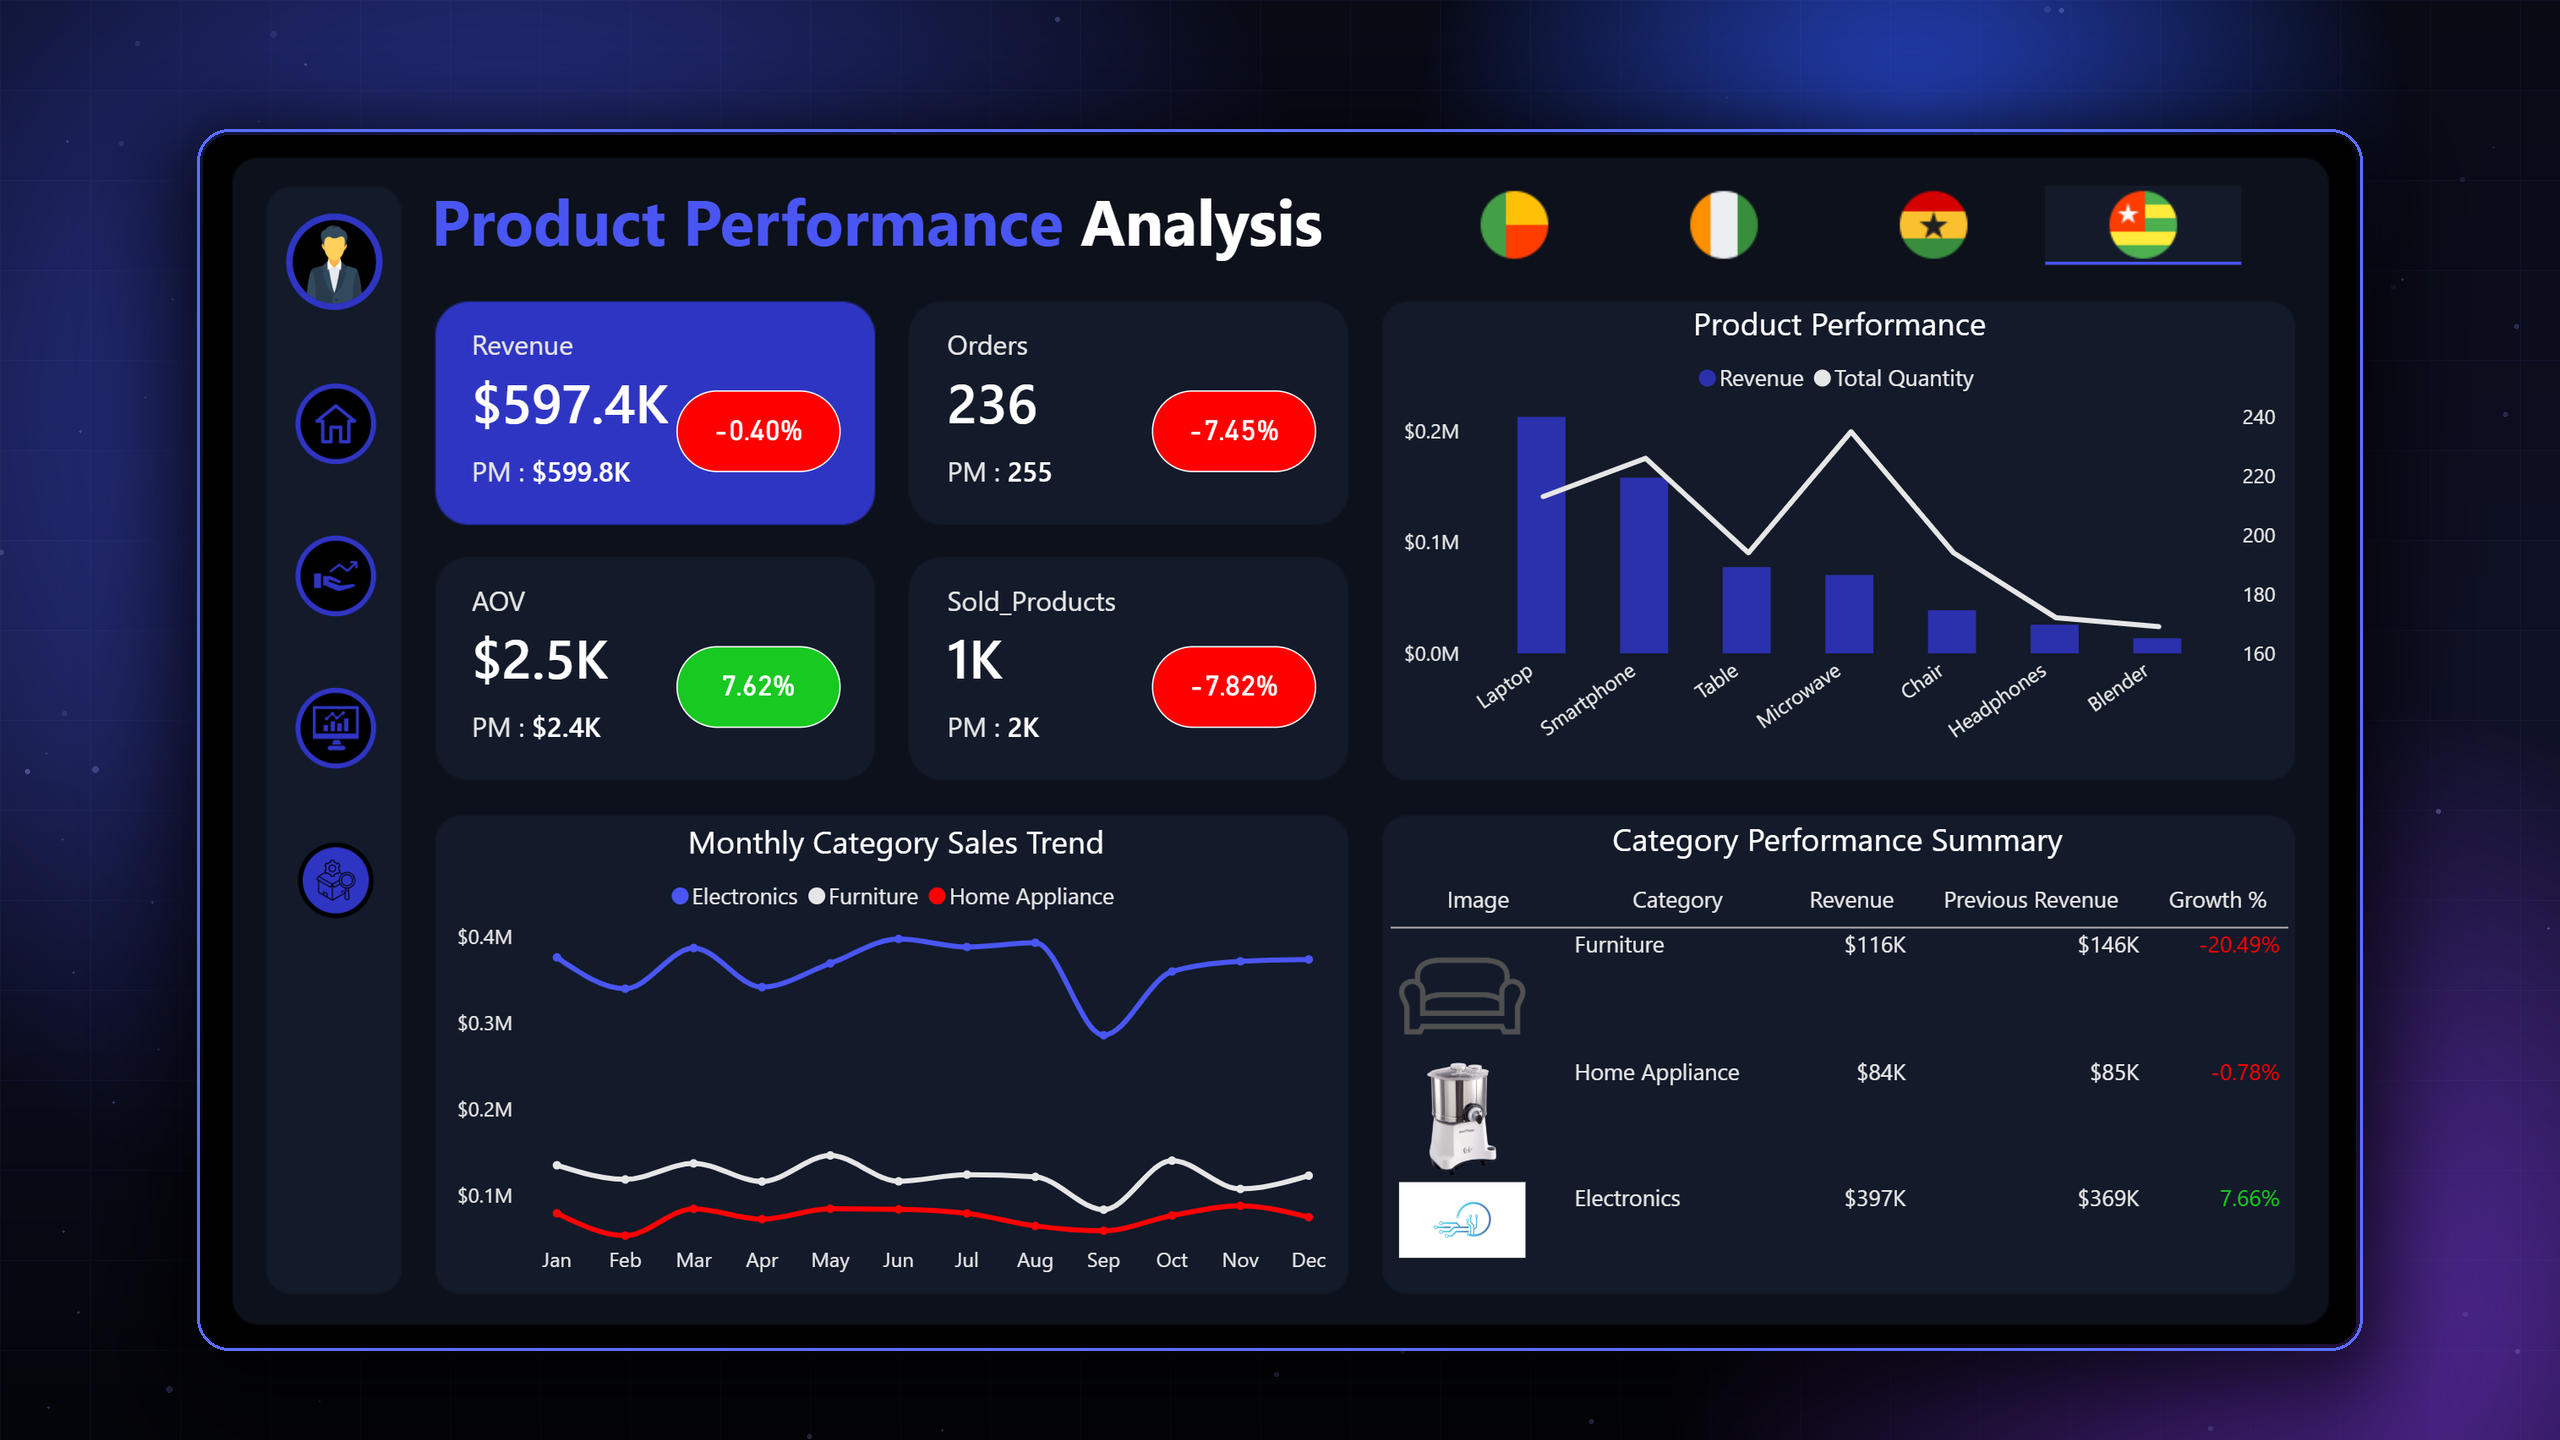

What the dashboard file says about the page in this screenshot:
{"tool":"powerbi","page":{"name":"Product Performance Analysis","canvas":[1280,720],"ordinal":3},"visuals":[{"type":"cardVisual","fields":{"Data":["DAX.Revenue"]},"box":[132.9,100,300,154.3],"z":1000},{"type":"card","fields":{"Values":["DAX.Revenue_G%"]},"box":[282.9,152.9,97.1,48.6],"z":2000},{"type":"cardVisual","fields":{"Data":["DAX.Orders"]},"box":[414.3,100,300,154.3],"z":3000},{"type":"card","fields":{"Values":["DAX.Orders_G%"]},"box":[564.3,152.9,97.1,48.6],"z":4000},{"type":"cardVisual","fields":{"Data":["DAX.AOV"]},"box":[132.9,251,300,154.3],"z":5000},{"type":"card","fields":{"Values":["DAX.AOV_G%"]},"box":[282.9,304.3,97.1,48.6],"z":6000},{"type":"cardVisual","fields":{"Data":["DAX.Sold_Products"]},"box":[414.3,251.4,300,154.3],"z":7000},{"type":"card","fields":{"Values":["DAX.Sold_Products_G%"]},"box":[564.3,304.3,97.1,48.6],"z":8000},{"type":"textbox","box":[133,21.4,555.7,68.6],"z":9000},{"type":"lineStackedColumnComboChart","title":"Product Performance","fields":{"Category":["Dim_Product.ProductName"],"Y":["DAX.Revenue"],"Y2":["DAX.Total Quantity"]},"box":[707.1,100,526.2,281],"z":10000},{"type":"lineChart","title":"Monthly Category Sales Trend","fields":{"Category":["Dim_Calendar.Month"],"Series":["Dim_Product.Category"],"Y":["DAX.Revenue"]},"box":[147.1,405.7,530,278.6],"z":11000},{"type":"tableEx","title":"Category Performance Summary","fields":{"Values":["Dim_Product.Product Img","Dim_Product.Category","DAX.Revenue","DAX.Revenue_PM","DAX.Revenue_G%"]},"box":[698.6,438.6,544.3,262.9],"z":12000},{"type":"textbox","box":[831.4,400,280,41.4],"z":13000},{"type":"advancedSlicerVisual","fields":{"Values":["Dim_Customer.Country Flag"]},"box":[714.4,26.4,498.3,57.6],"z":14000},{"type":"image","box":[45.2,41.7,70.2,70.2],"z":15000},{"type":"image","box":[51.2,142.6,59.5,59.5],"z":16000},{"type":"image","box":[51,232,59.5,59.5],"z":17000},{"type":"image","box":[51,413,59.5,59.5],"z":18000},{"type":"image","box":[51.2,322,59.5,59.5],"z":19000}]}

Visuals, with their boxes in screenshot pixels (x1, y1, x2, y2), scaled from the page's 1280x720 canvas onto the 2560x1440 screenshot:
cardVisual - DAX.Revenue: x1=266, y1=200, x2=866, y2=509
card - DAX.Revenue_G%: x1=566, y1=306, x2=760, y2=403
cardVisual - DAX.Orders: x1=829, y1=200, x2=1429, y2=509
card - DAX.Orders_G%: x1=1129, y1=306, x2=1323, y2=403
cardVisual - DAX.AOV: x1=266, y1=502, x2=866, y2=811
card - DAX.AOV_G%: x1=566, y1=609, x2=760, y2=706
cardVisual - DAX.Sold_Products: x1=829, y1=503, x2=1429, y2=811
card - DAX.Sold_Products_G%: x1=1129, y1=609, x2=1323, y2=706
textbox: x1=266, y1=43, x2=1377, y2=180
"Product Performance" lineStackedColumnComboChart: x1=1414, y1=200, x2=2467, y2=762
"Monthly Category Sales Trend" lineChart: x1=294, y1=811, x2=1354, y2=1369
"Category Performance Summary" tableEx: x1=1397, y1=877, x2=2486, y2=1403
textbox: x1=1663, y1=800, x2=2223, y2=883
advancedSlicerVisual - Dim_Customer.Country Flag: x1=1429, y1=53, x2=2425, y2=168
image: x1=90, y1=83, x2=231, y2=224
image: x1=102, y1=285, x2=221, y2=404
image: x1=102, y1=464, x2=221, y2=583
image: x1=102, y1=826, x2=221, y2=945
image: x1=102, y1=644, x2=221, y2=763
